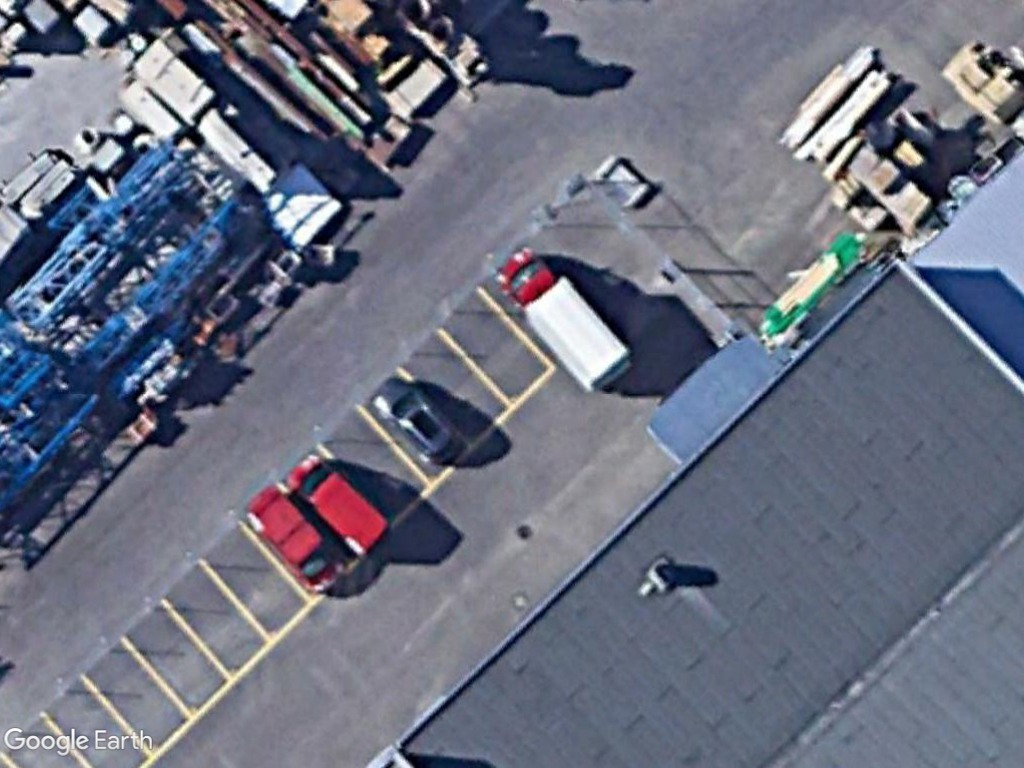car: (363, 375, 466, 469)
truck: (488, 250, 634, 396)
van: (241, 487, 350, 595), (286, 454, 387, 556)
